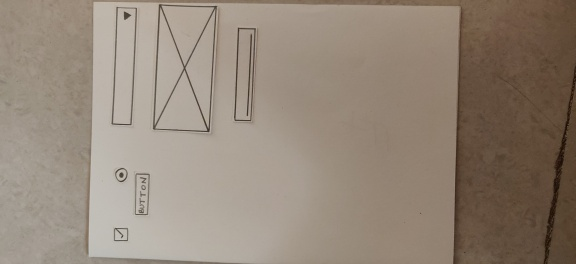button: (133, 171, 151, 217)
checkbox: (112, 226, 131, 243)
dropdown: (111, 4, 137, 127)
img: (151, 1, 217, 134)
radio: (113, 166, 129, 184)
text: (233, 25, 257, 124)
